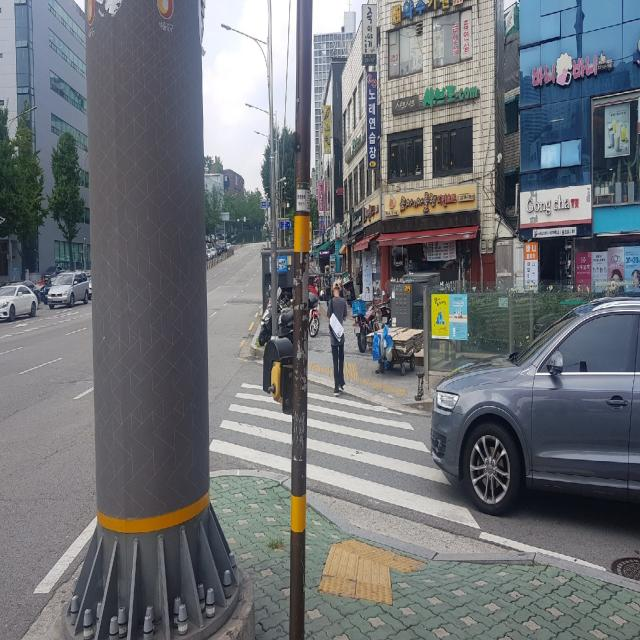횡단보도: (209, 383, 481, 528)
